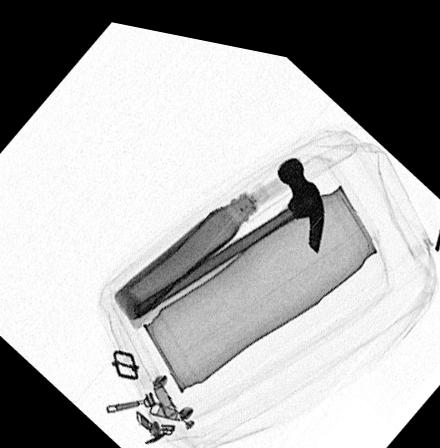Hammer: (122, 145, 323, 324)
